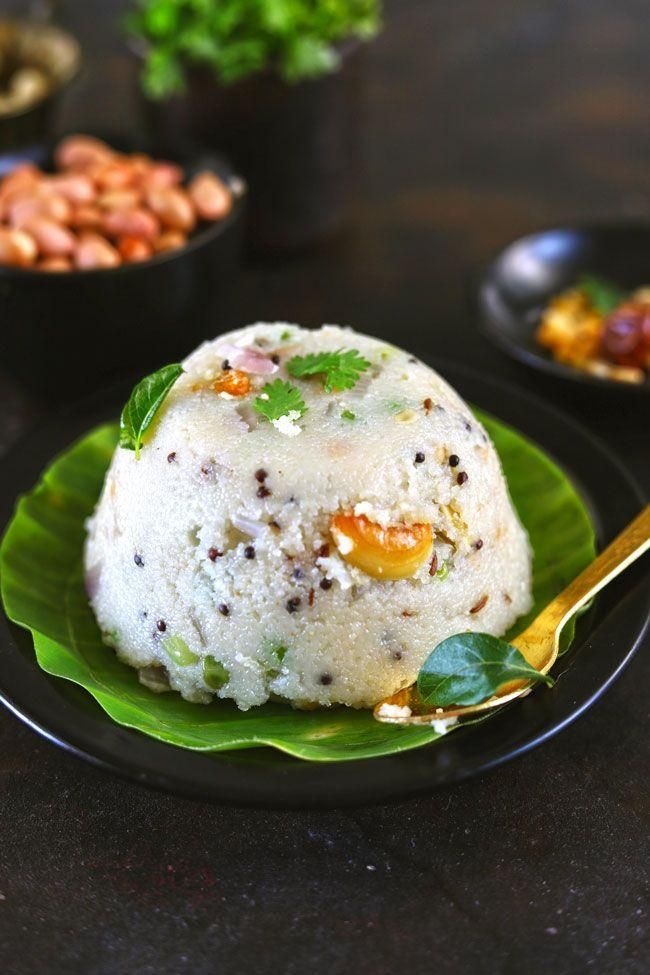upma: (71, 298, 534, 744)
